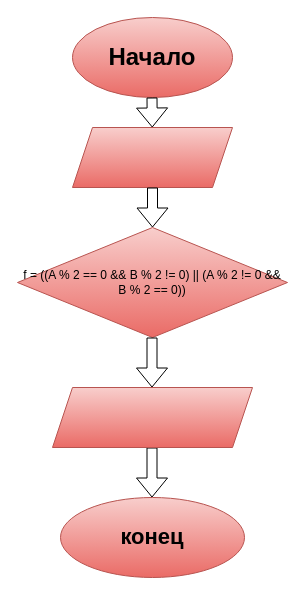
Image size: 305x595. Some labels were removed from this diagram. Each missing label, with the centre of its shape:
"A, B, f" belongs at (152,157).
"Доступ разрешен (1 - да, 0 - нет), f" belongs at (152,417).
